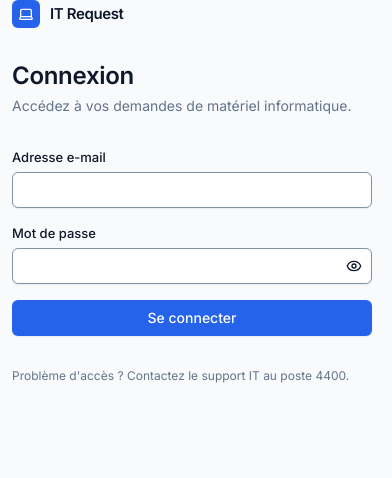
Test case: PageConnexion › affiche « E-mail ou mot de passe incorrect » si la connexion échoue
In the field labelled "Adresse e-mail": (192, 190) left=12, top=172, right=372, bottom=208, type "aya@itrm.demo"
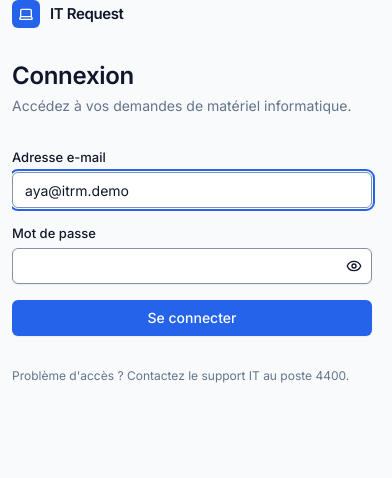
In the password field labelled "Mot de passe": (192, 266) left=12, top=248, right=372, bottom=284, type "mauvais"
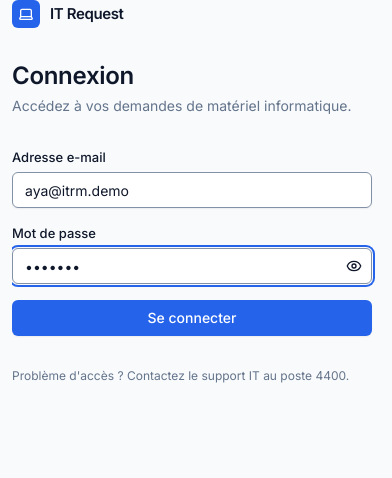
Click the button "Se connecter": (192, 318) left=12, top=300, right=372, bottom=336
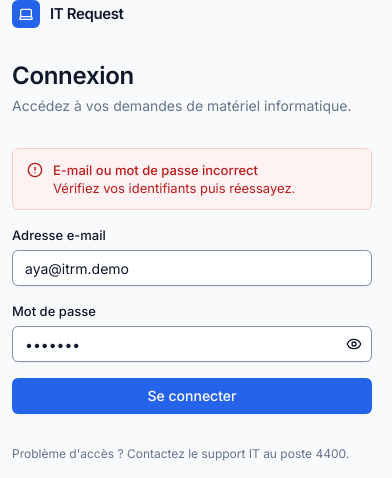
Now the text "E-mail ou mot de passe incorrect" is shown, box left=53, top=162, right=258, bottom=178
